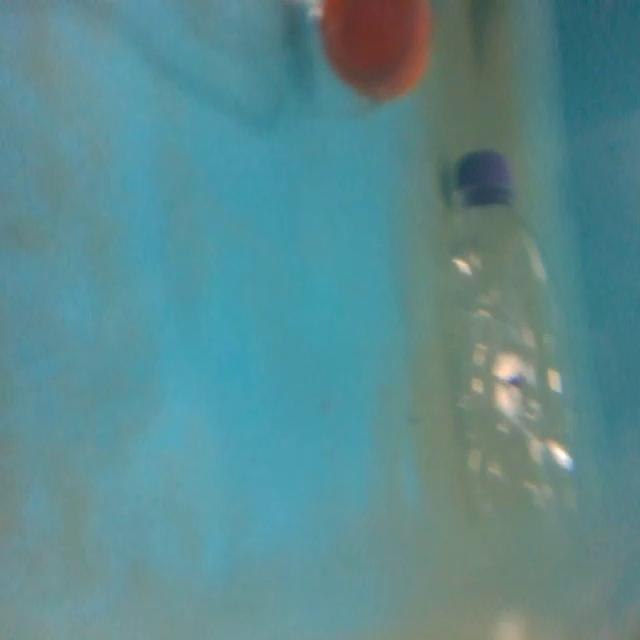plastic bottle: (431, 140, 595, 562)
